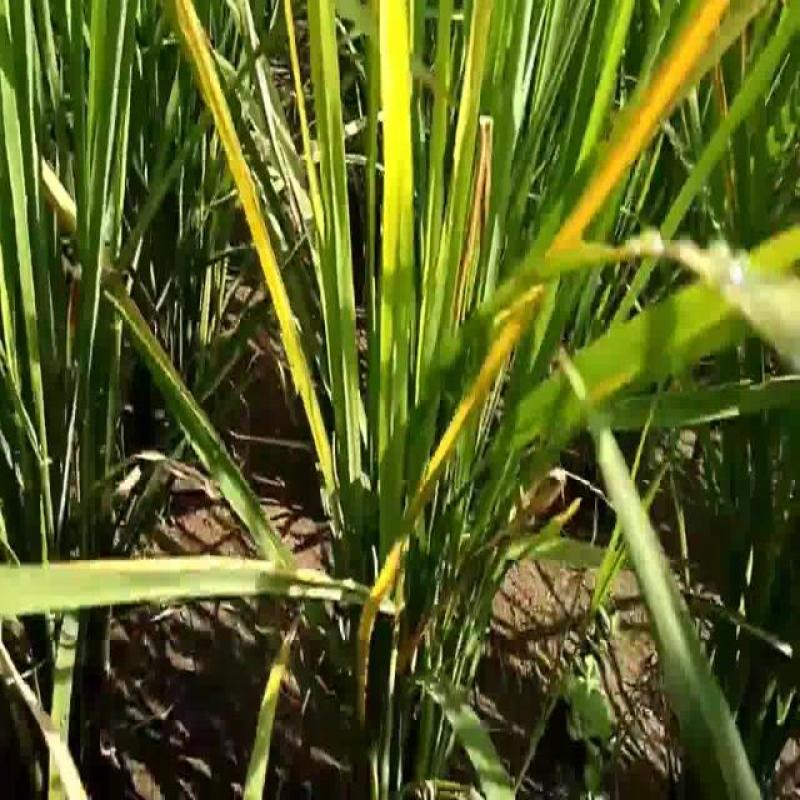Rice Tungro: (464, 8, 736, 418), (172, 10, 308, 366), (374, 8, 416, 288)
